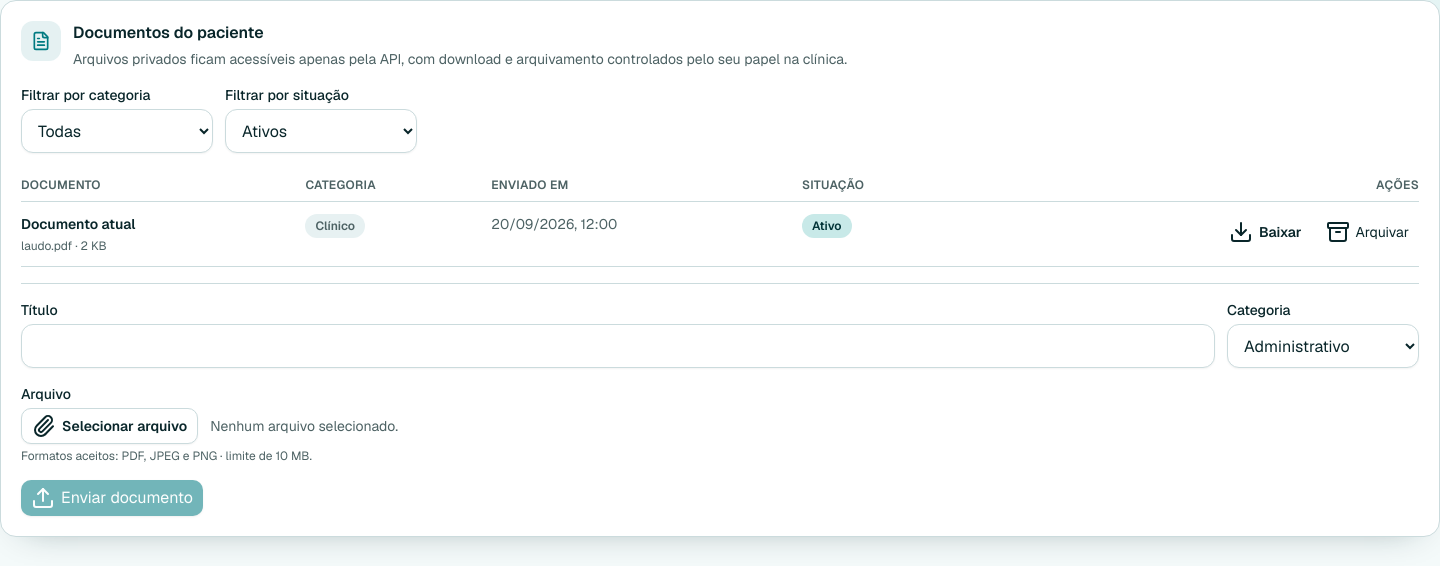
Test case: DocumentsPanel › loads archived documents from the API when the status filter changes
The image size is (1440, 566).
Expected: the text "Documento atual" is shown, x1=21 y1=215 x2=136 y2=233
Expected: the text "Documento antigo" is not shown
Select "Arquivados" in the dropdown labelled "Filtrar por situação" at (321, 131), box x1=225 y1=109 x2=417 y2=153
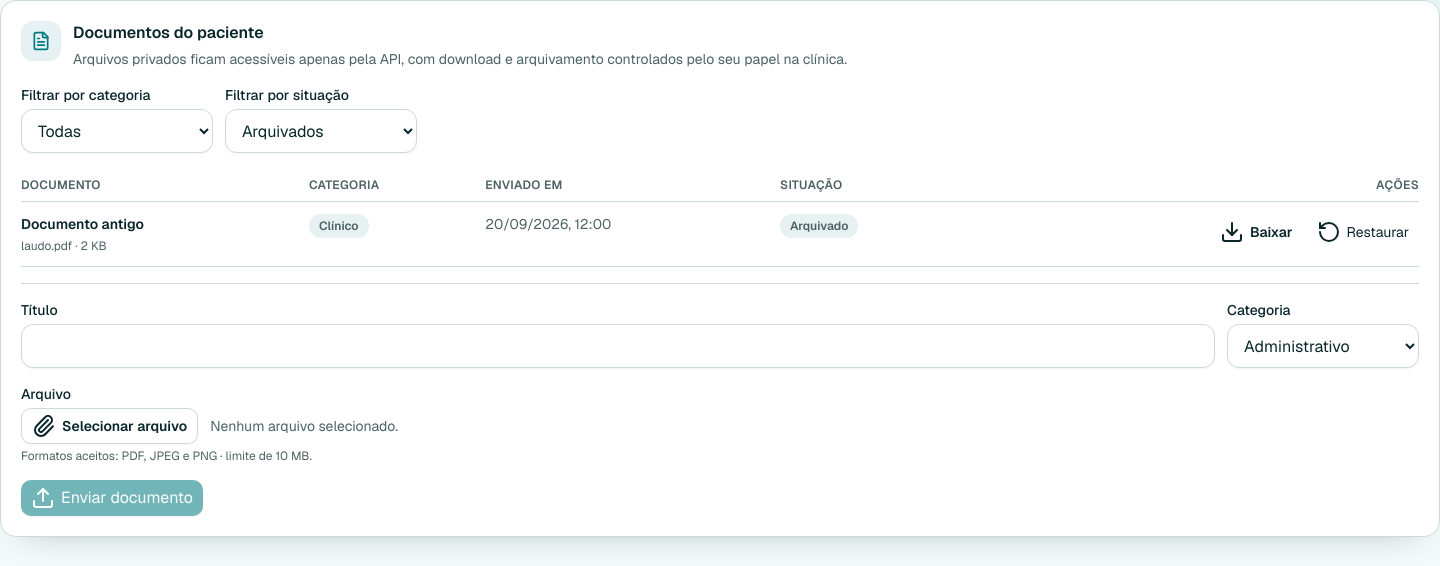
Expected: the text "Documento antigo" is shown, x1=21 y1=215 x2=144 y2=233
Expected: the text "Documento atual" is gone
Expected: the text "Arquivado" is shown, x1=780 y1=214 x2=858 y2=238
